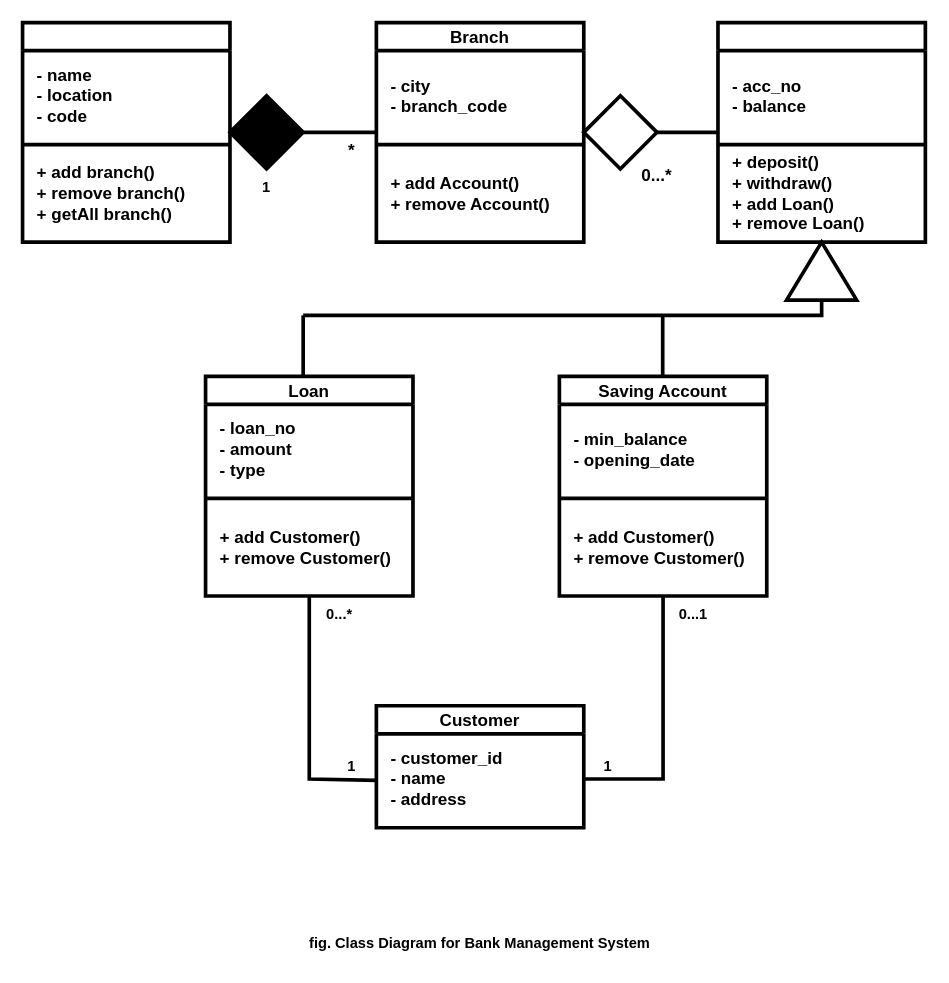
This 949x983 diagram has some shape labels left out. The box of each missing label's shape, as (x1, y1, x2, y2) in pixels:
Account: (716, 20, 927, 243)
Bank: (20, 20, 231, 243)
